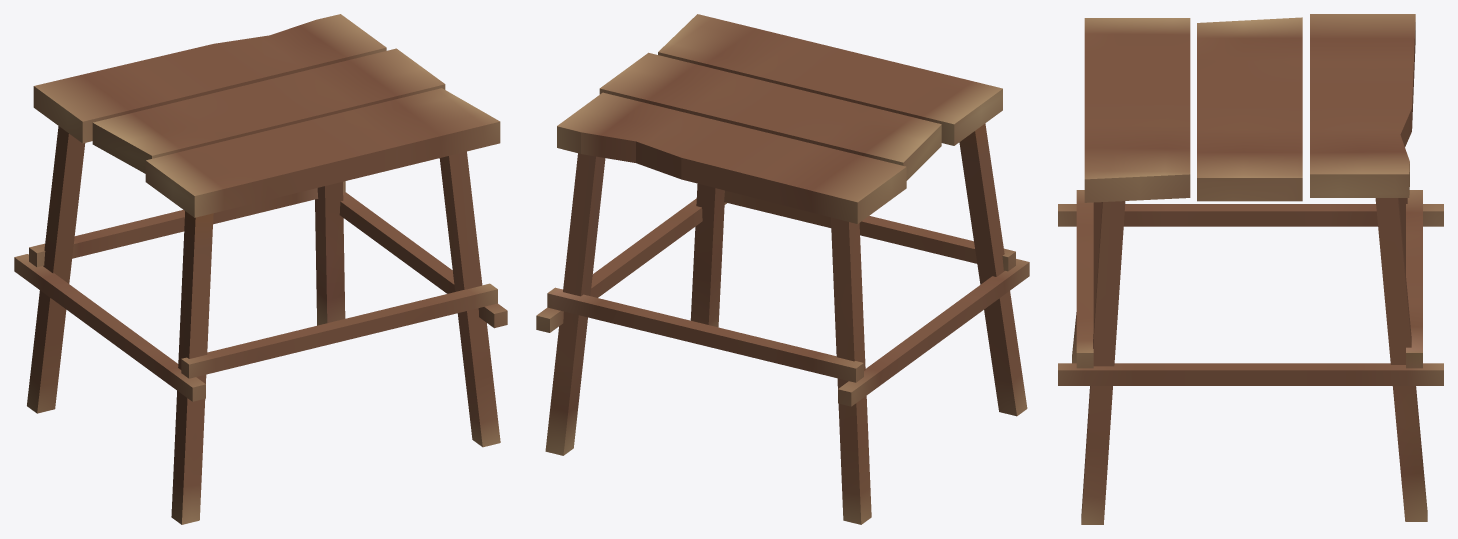
The model's file is kit-table.glb.
3 views of the same model, side by side, from view 1: azimuth 30°, elevation 25°; view 2: azimuth 150°, elevation 25°; view 3: azimuth 270°, elevation 25° (orthographic). The views are drawn at different scales.
Parts seen in each view (by area): view 1: Cube.333; view 2: Cube.333; view 3: Cube.333.
Boxes of the visible parts, <box> form: Cube.333: <box>14,14,507,524</box>; Cube.333: <box>536,14,1029,524</box>; Cube.333: <box>1058,14,1443,524</box>.
Size of the model in its own units: 0.4086 by 0.3853 by 0.3891.
1 material, 1 textured.
